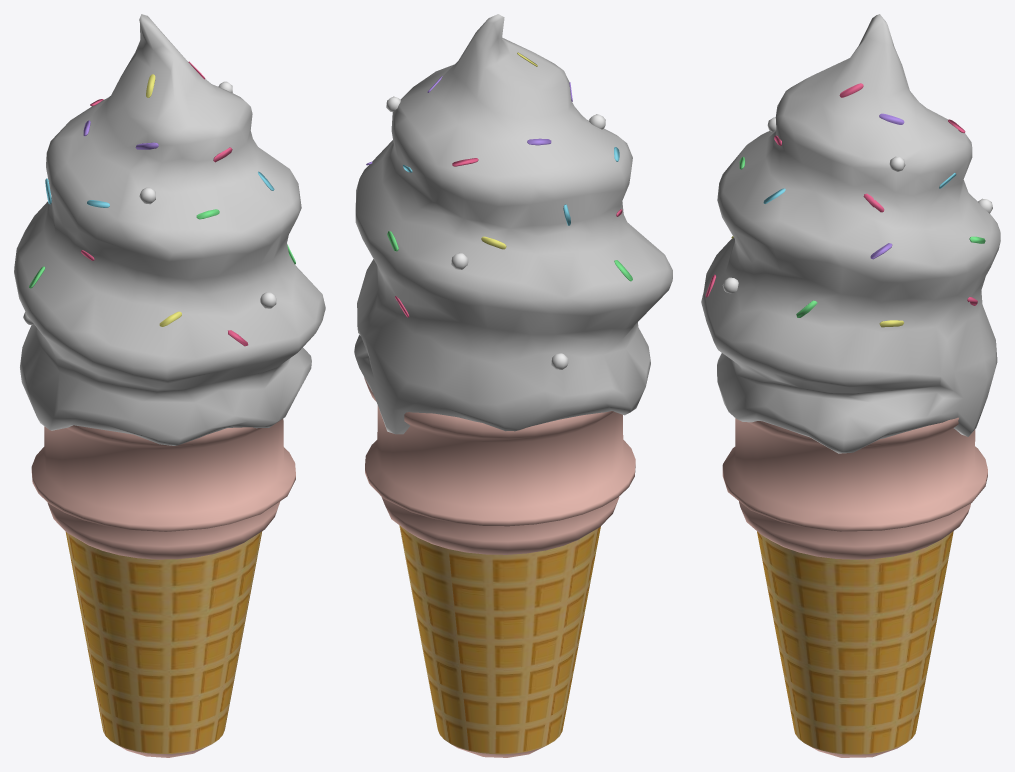
File: Icecream.fbx
3 renders of one model, left to right at view 1: azimuth 30°, elevation 25°; view 2: azimuth 150°, elevation 25°; view 3: azimuth 270°, elevation 25°, orthographic. The views are drawn at different scales.
Parts seen in each view (by area): view 1: Cube; view 2: Cube; view 3: Cube.
Part boxes in pixels (x1,y1,x2,y2): Cube: (14, 14, 325, 757); Cube: (354, 14, 672, 757); Cube: (701, 14, 1000, 757).
Size of the model in its own units: 6.29 by 16.01 by 6.04.
